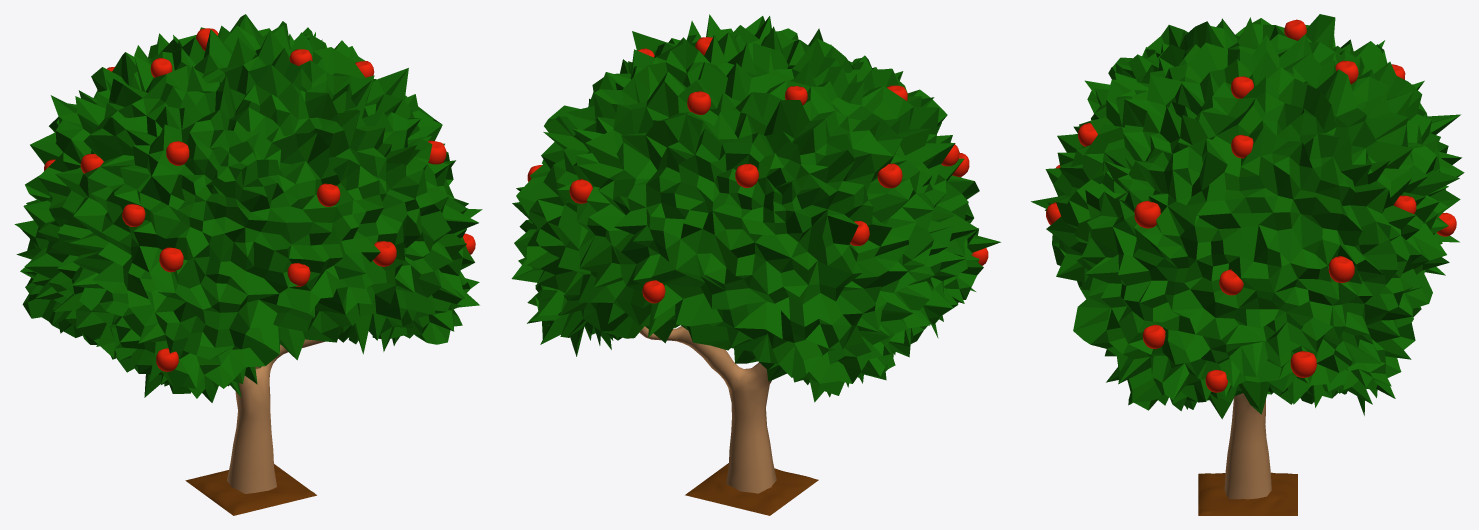
The model's file is apple.glb.
3 views of the same model, side by side, from view 1: azimuth 30°, elevation 25°; view 2: azimuth 150°, elevation 25°; view 3: azimuth 270°, elevation 25° (orthographic). The views are drawn at different scales.
Visible parts, largest first — view 1: 5_summer_nft; view 2: 5_summer_nft; view 3: 5_summer_nft.
Part boxes in pixels (x1,y1,x2,y2): 5_summer_nft: [14, 14, 482, 515]; 5_summer_nft: [511, 14, 1000, 515]; 5_summer_nft: [1031, 14, 1464, 515].
Size of the model in its own units: 6.61 by 7.1 by 6.1.
